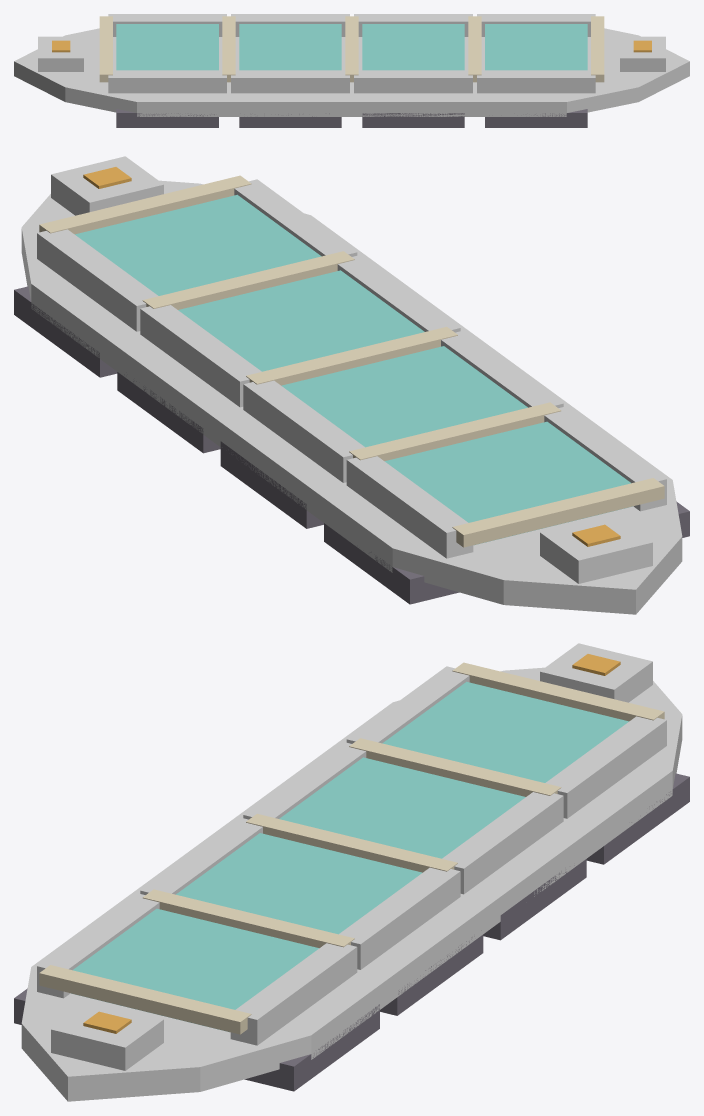
The model's file is space_road_m30.glb.
3 views of the same model, one above another, from view 1: azimuth 30°, elevation 25°; view 2: azimuth 150°, elevation 25°; view 3: azimuth 270°, elevation 25° (orthographic). The views are drawn at different scales.
Visible parts, largest first — view 1: WoodBody, FixedDetails, BrassTrim; view 2: WoodBody, FixedDetails, BrassTrim; view 3: WoodBody, FixedDetails, BrassTrim.
Boxes of the visible parts, box(x1,y1,x2,y2) form: WoodBody: box(14, 14, 689, 116); FixedDetails: box(116, 24, 587, 127); BrassTrim: box(52, 16, 651, 82); WoodBody: box(21, 156, 682, 614); FixedDetails: box(14, 194, 689, 604); BrassTrim: box(39, 167, 664, 547); WoodBody: box(21, 643, 682, 1101); FixedDetails: box(14, 681, 689, 1091); BrassTrim: box(39, 654, 664, 1034).
Size of the model in its own units: 0.5716 by 0.045 by 0.3927.
